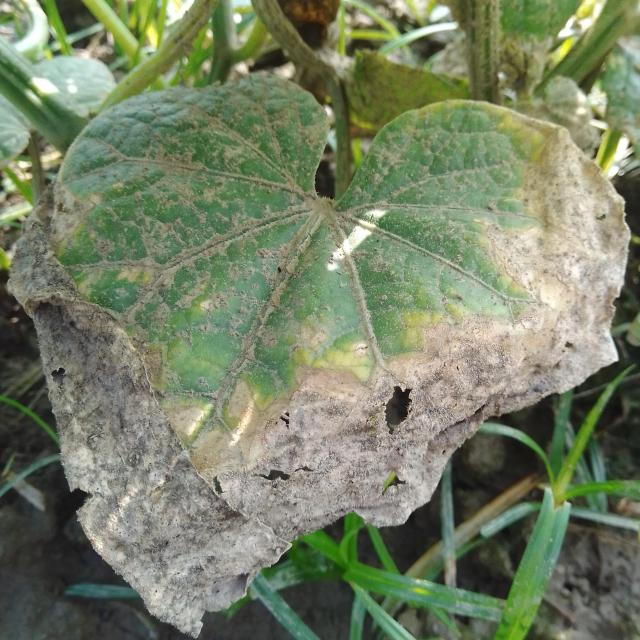cucumber_gummy: (5, 68, 635, 640)
